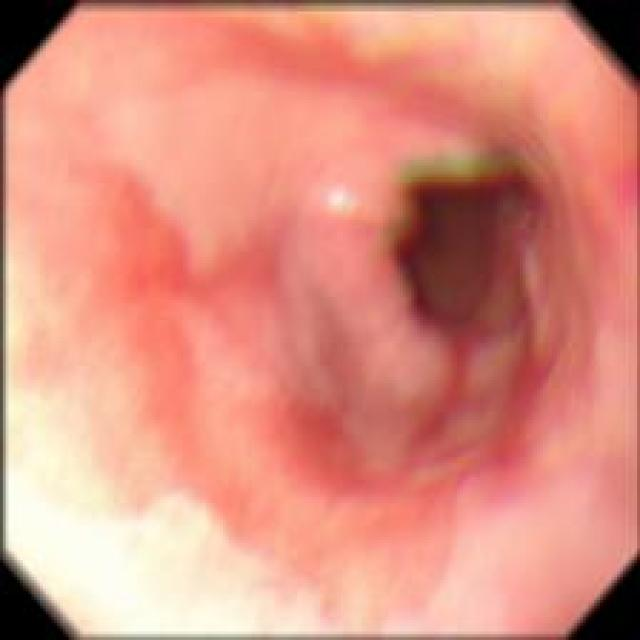blur: (1, 4, 639, 638), (109, 61, 616, 521)
color misalignment: (394, 142, 515, 194), (390, 146, 429, 250)
contrast: (411, 176, 519, 309)
saturation: (4, 346, 306, 632)
